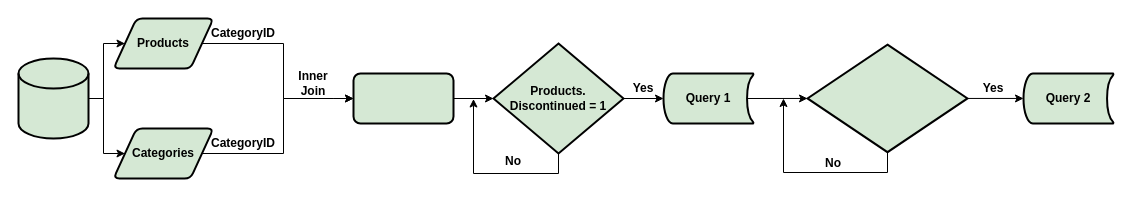
This 1131x199 diagram has some shape labels left out. Here are the shapes that lost their labels. From the top down, the box of each, then its label:
(17, 57, 89, 139): Northwind
(352, 72, 454, 124): Transform Data 1
(806, 43, 968, 153): SUM (Products .UnitsInStock) > 0
